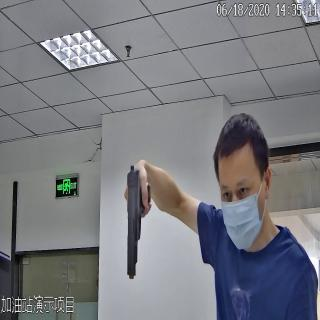gun: (118, 164, 152, 274)
